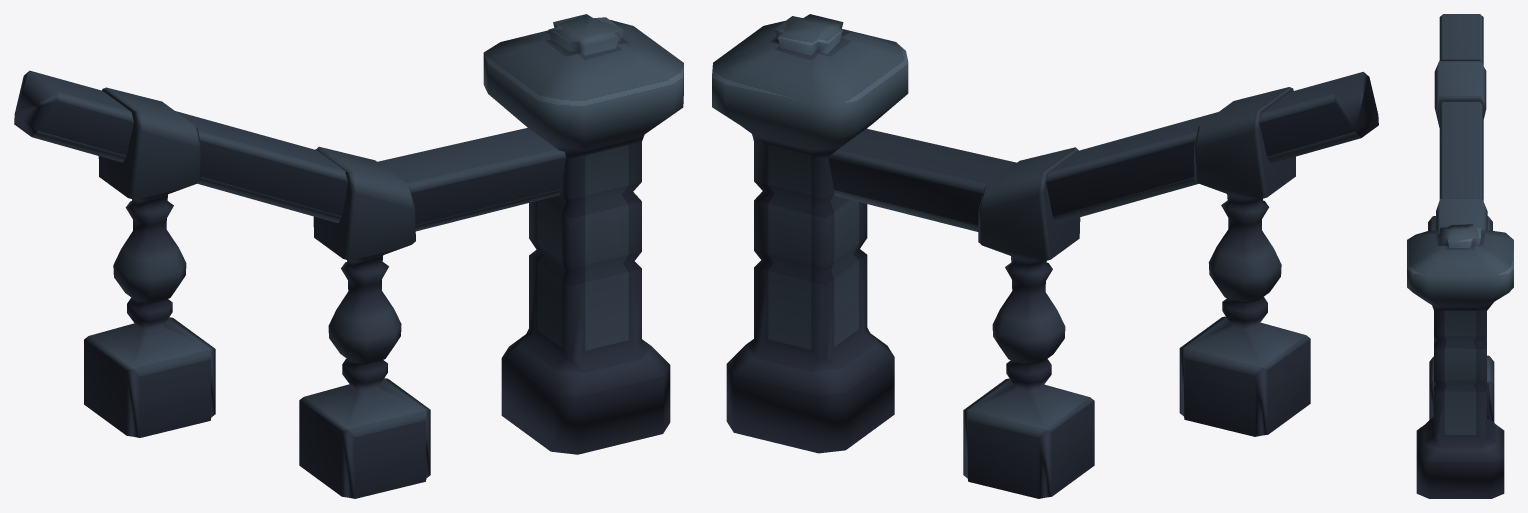
File: Modular_Dungeon_Railing_Diag_End.fbx
3 views of the same model, side by side, from view 1: azimuth 30°, elevation 25°; view 2: azimuth 150°, elevation 25°; view 3: azimuth 270°, elevation 25° (orthographic). The views are drawn at different scales.
Parts seen in each view (by area): view 1: Railing_Diag_End; view 2: Railing_Diag_End; view 3: Railing_Diag_End.
Boxes of the visible parts, left/top/right/bottom form: Railing_Diag_End: left=14, top=14, right=683, bottom=498; Railing_Diag_End: left=712, top=14, right=1378, bottom=498; Railing_Diag_End: left=1407, top=14, right=1513, bottom=498.
Bounding box in the file's own units: 4.25 × 3 × 0.9727.
Materials: 1 (1 with a texture image).
